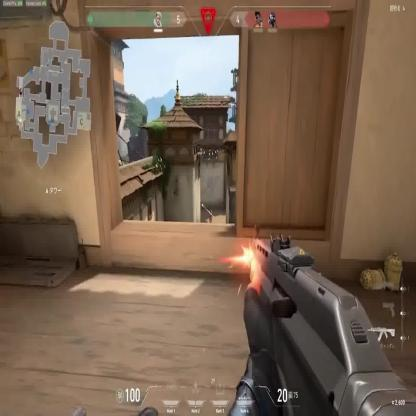enemy: (209, 209, 212, 224)
enemy_head: (210, 208, 211, 212)
